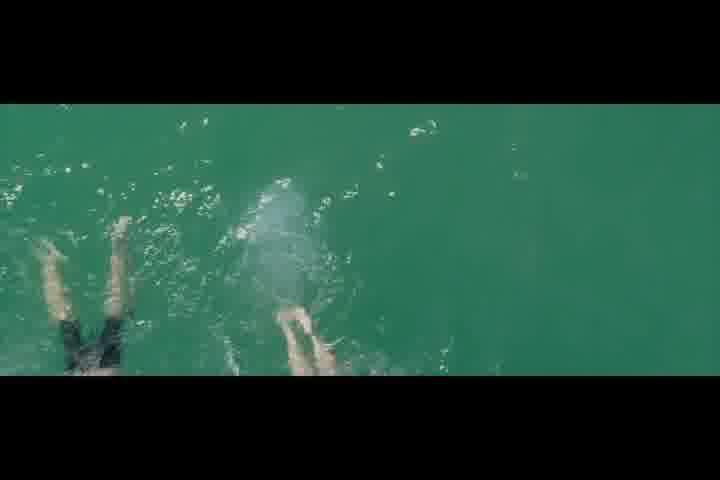human: (21, 232, 140, 372), (274, 297, 340, 376)
